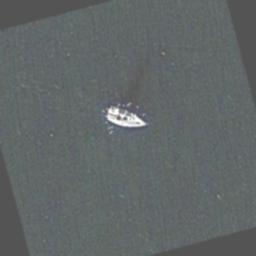boat: (102, 98, 148, 135)
